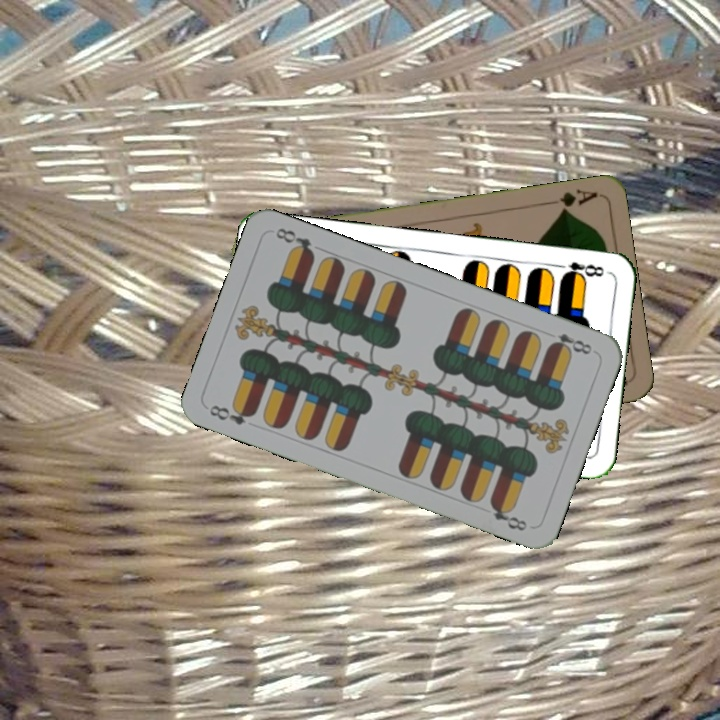E8: (205, 400, 259, 428), (545, 329, 595, 358), (551, 258, 606, 282)
GA: (541, 185, 600, 216)
